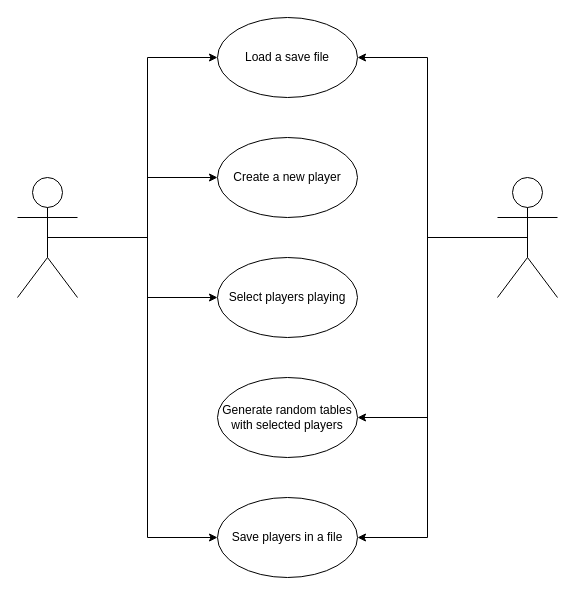
Image size: 575x595. Some labels were removed from this diagram. Here are the shapes that lost their labels. From the top down, the box of each, then its label:
(16, 176, 78, 298): User
(496, 176, 558, 298): App
